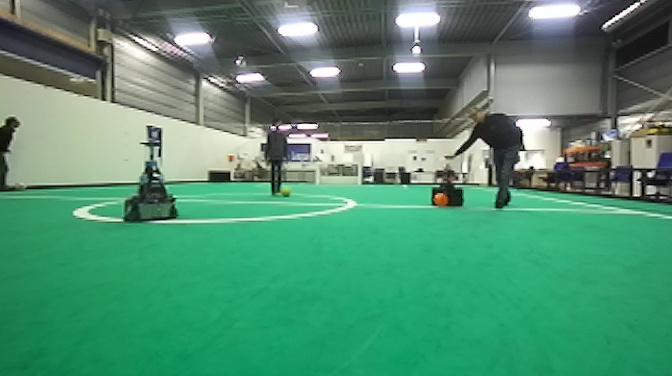ball: (431, 192, 450, 211), (11, 179, 30, 193), (280, 184, 292, 198)
goal: (314, 162, 362, 187)
goalpost: (314, 162, 322, 185), (357, 161, 362, 187)
human: (442, 105, 525, 212), (264, 119, 293, 199), (1, 115, 24, 190)
robot: (118, 136, 183, 225), (428, 156, 466, 209)
